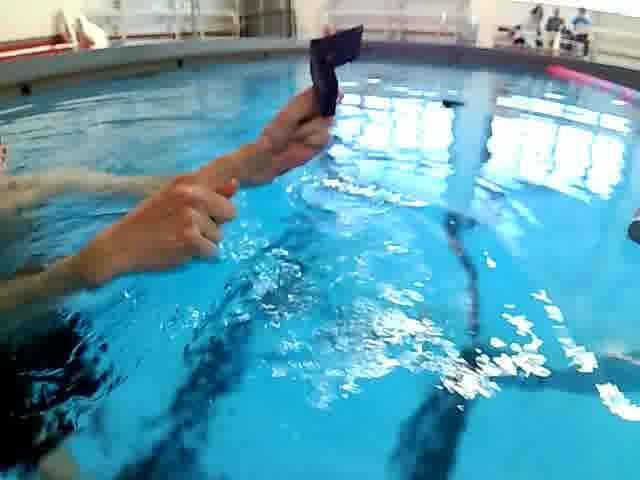CamMount: (304, 20, 372, 120)
